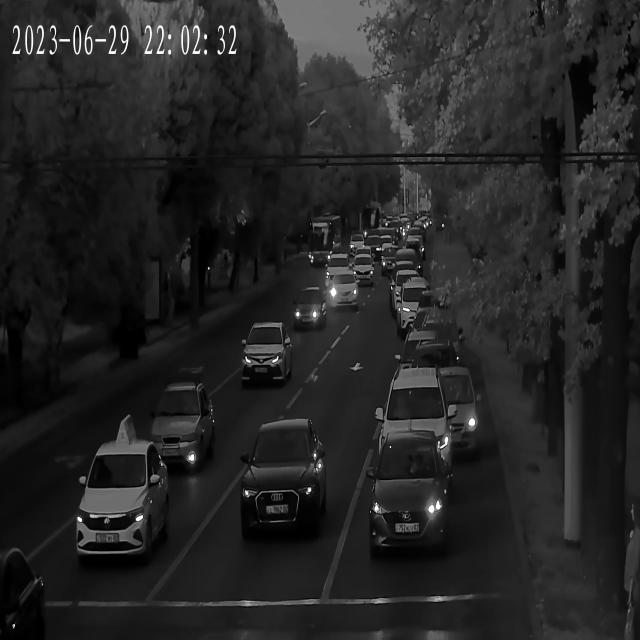Bus: (310, 217, 346, 263)
Car: (71, 437, 169, 563), (363, 434, 449, 558), (376, 362, 476, 462), (241, 420, 324, 537), (138, 386, 218, 470), (0, 549, 45, 640), (381, 428, 447, 490), (241, 324, 296, 387), (394, 284, 444, 340), (402, 341, 459, 388), (410, 317, 463, 364), (390, 270, 428, 310), (292, 290, 328, 332), (326, 272, 360, 311), (324, 256, 352, 282), (394, 252, 421, 277), (380, 250, 408, 274), (349, 260, 373, 280), (363, 237, 386, 257), (370, 232, 395, 250), (353, 251, 374, 269), (310, 248, 329, 267), (406, 232, 425, 250), (348, 236, 366, 254)
